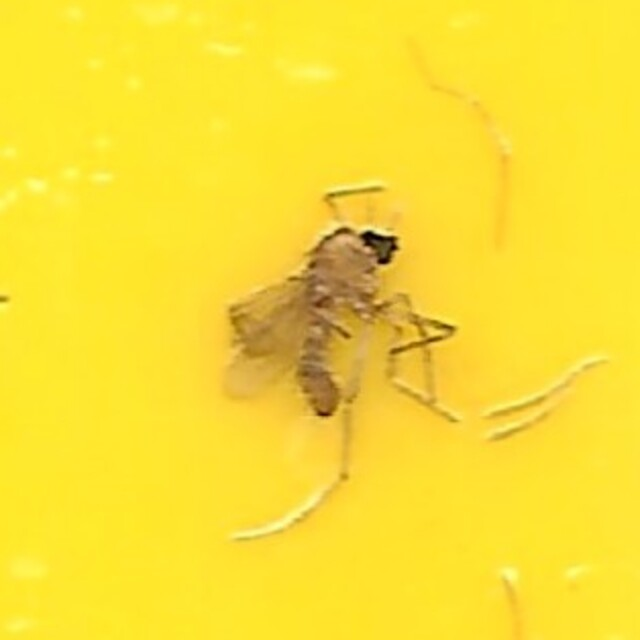Nematocera: (204, 200, 436, 440)
